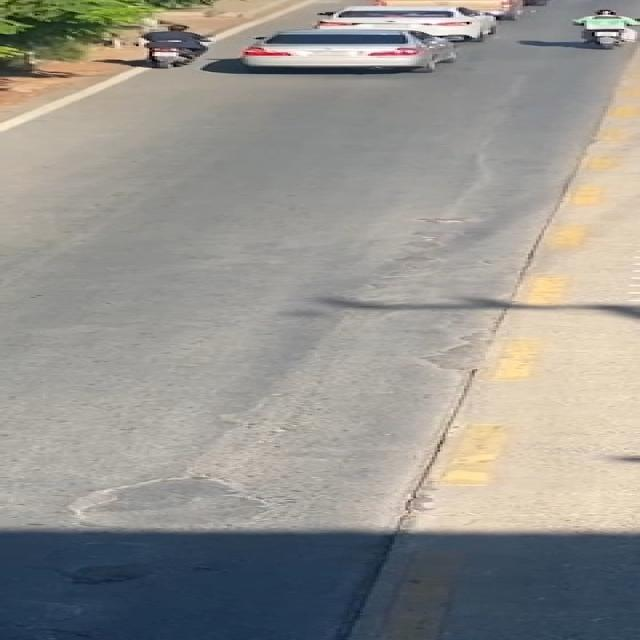car: (232, 28, 472, 72), (290, 6, 518, 41)
